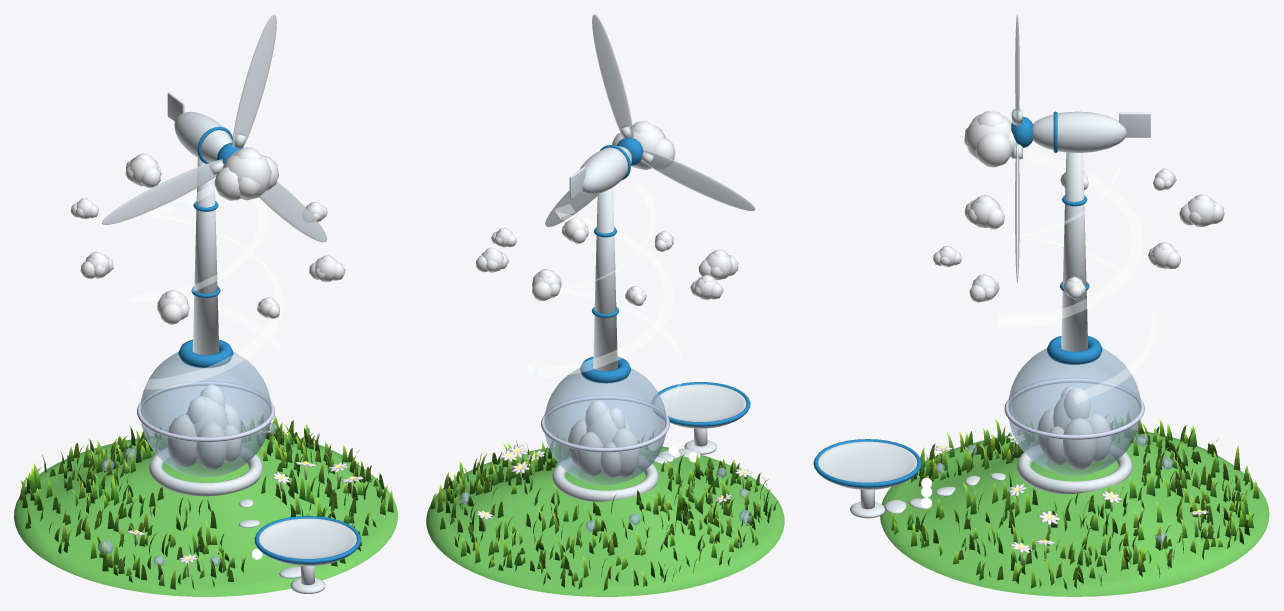
Rendered from WindCondenser.fbx.
3 renders of one model, left to right at view 1: azimuth 30°, elevation 25°; view 2: azimuth 150°, elevation 25°; view 3: azimuth 270°, elevation 25°, orthographic. The views are drawn at different scales.
Visible parts, largest first — view 1: Base.010, Grass.009, Orb.006, MachineBody, Rotor, CloudRing, CloudMass.008, WindSpiral_1, Feed, WindSpiral_0, OrbGlow; view 2: Base.010, Grass.009, Orb.006, MachineBody, Rotor, CloudRing, CloudMass.008, WindSpiral_0, OrbGlow, Feed, WindSpiral_1; view 3: Base.010, Grass.009, Orb.006, MachineBody, CloudRing, CloudMass.008, WindSpiral_1, Feed, Rotor, OrbGlow, WindSpiral_0.
Part boxes in pixels (<box>): Base.010: <box>14,423,397,596</box>; Grass.009: <box>19,415,393,589</box>; Orb.006: <box>140,351,271,477</box>; MachineBody: <box>167,92,233,368</box>; Rotor: <box>102,14,327,242</box>; CloudRing: <box>70,153,345,324</box>; CloudMass.008: <box>167,384,241,470</box>; WindSpiral_1: <box>130,184,282,389</box>; Feed: <box>214,147,278,200</box>; WindSpiral_0: <box>129,198,281,351</box>; OrbGlow: <box>137,381,274,442</box>; Base.010: <box>426,382,784,596</box>; Grass.009: <box>430,431,777,590</box>; Orb.006: <box>544,368,666,485</box>; MachineBody: <box>569,145,631,383</box>; Rotor: <box>545,14,755,227</box>; CloudRing: <box>476,217,738,306</box>; CloudMass.008: <box>568,400,639,478</box>; WindSpiral_0: <box>527,204,672,376</box>; OrbGlow: <box>541,395,669,452</box>; Feed: <box>612,120,675,170</box>; WindSpiral_1: <box>559,181,682,400</box>; Base.010: <box>813,430,1269,596</box>; Grass.009: <box>891,411,1259,589</box>; Orb.006: <box>1008,348,1141,475</box>; MachineBody: <box>1032,111,1150,364</box>; CloudRing: <box>933,168,1224,302</box>; CloudMass.008: <box>1037,386,1111,470</box>; WindSpiral_1: <box>993,150,1142,328</box>; Feed: <box>964,111,1016,167</box>; Rotor: <box>1011,14,1032,283</box>; OrbGlow: <box>1004,378,1144,439</box>; WindSpiral_0: <box>1007,166,1156,403</box>.
Bounding box in the file's own units: 1.84 × 2.7 × 2.15.
